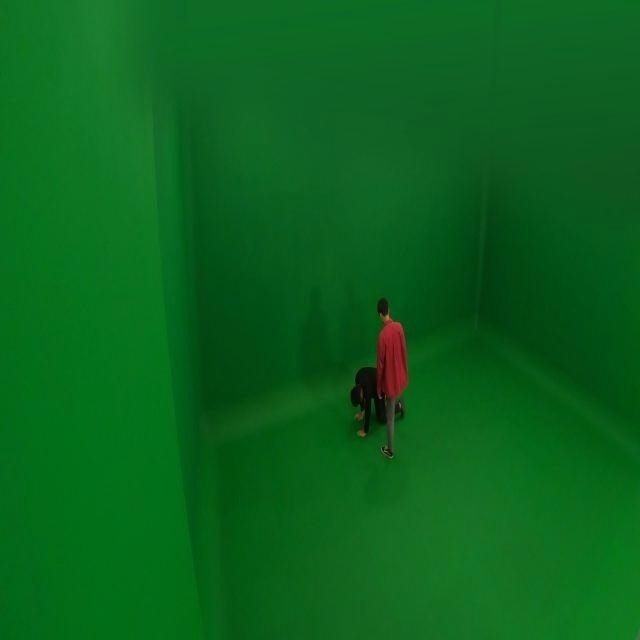fight: (343, 295, 410, 458)
